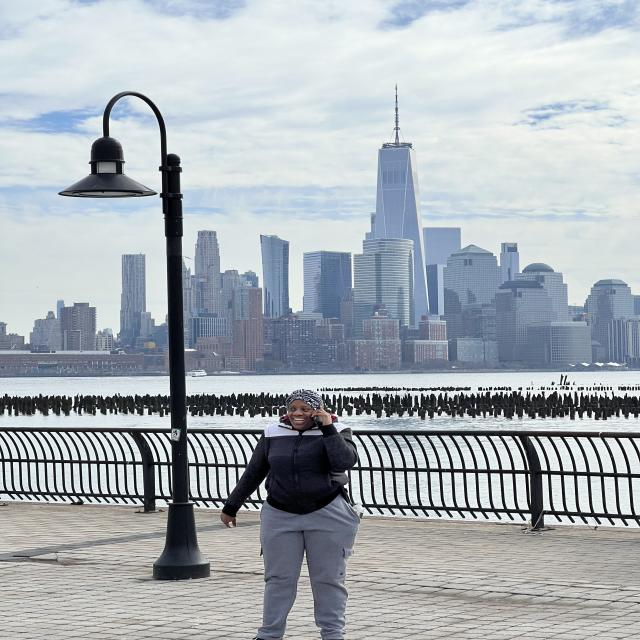WTC: (375, 87, 423, 239)
